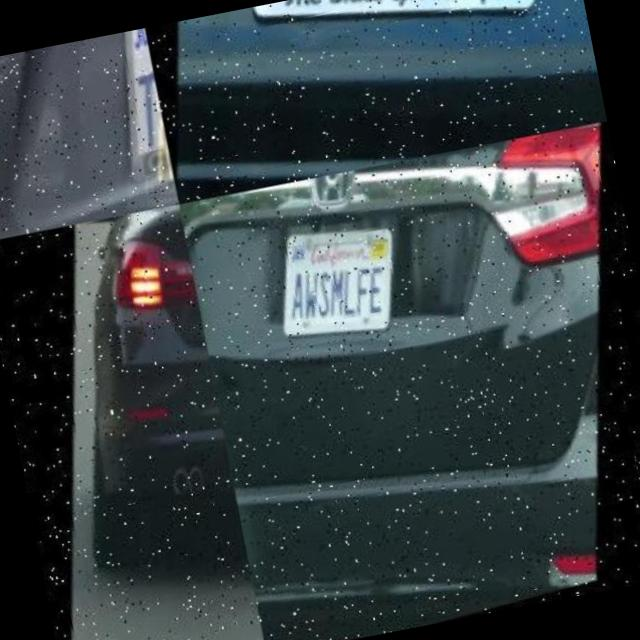LicensePlate: (250, 0, 605, 174), (264, 208, 416, 367)
